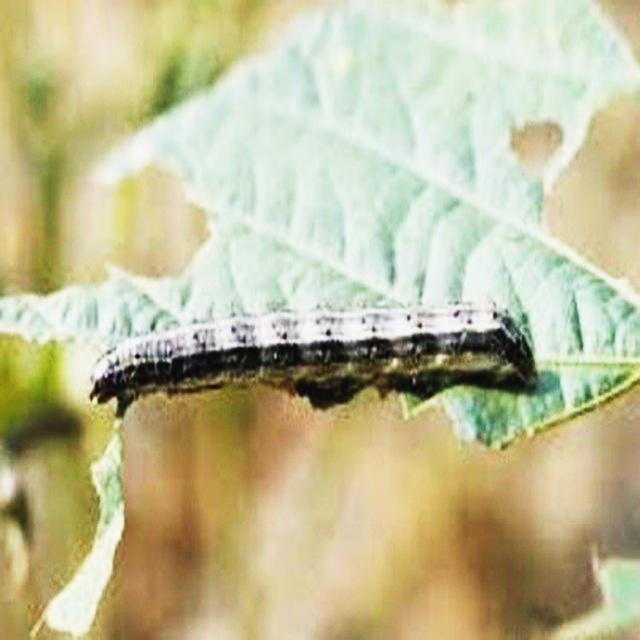gusano_cogollero: (82, 294, 540, 408)
